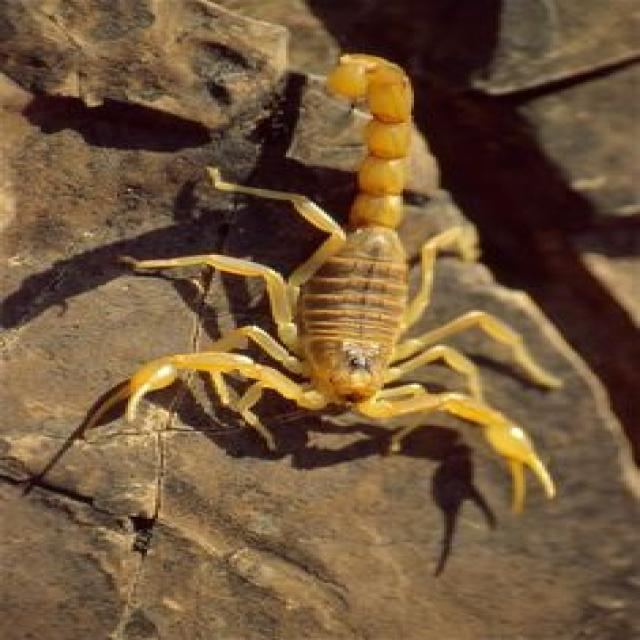Carnivorous: (120, 53, 561, 515)
